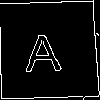A: (24, 24, 63, 72)
